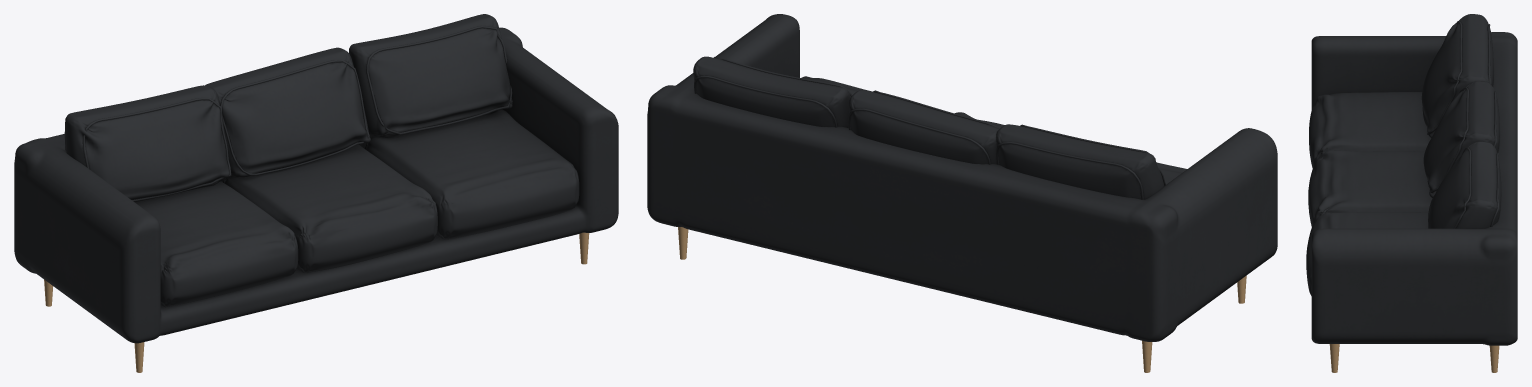
Rendered from pana-grafito.gltf.
3 renders of one model, left to right at view 1: azimuth 30°, elevation 25°; view 2: azimuth 150°, elevation 25°; view 3: azimuth 270°, elevation 25°, orthographic. The views are drawn at different scales.
Visible parts, largest first — view 1: tela_ar, madera_ar; view 2: tela_ar, madera_ar; view 3: tela_ar, madera_ar.
Part boxes in pixels (x1,y1,x2,y2): tela_ar: (14, 14, 618, 343); madera_ar: (44, 232, 589, 372); tela_ar: (647, 14, 1277, 341); madera_ar: (678, 227, 1246, 372); tela_ar: (1306, 14, 1517, 345); madera_ar: (1329, 344, 1499, 372).
Size of the model in its own units: 2.2 by 0.8253 by 0.9208.
2 materials, 2 textured.
